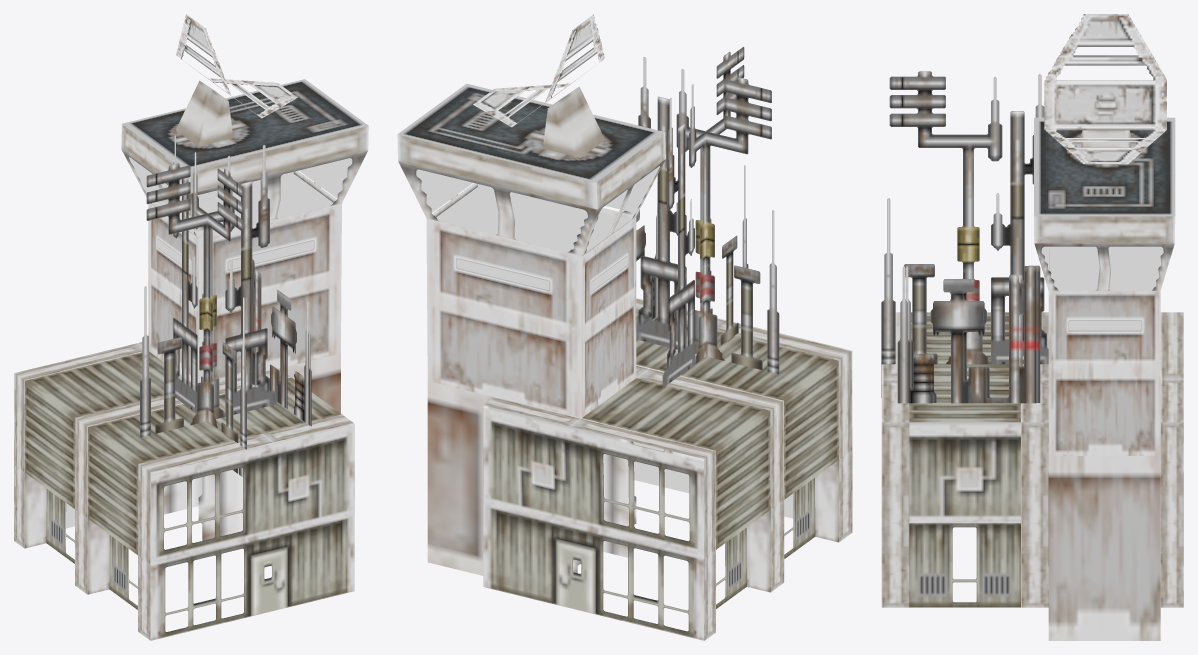
File: s_sensorcontrol.glb
3 renders of one model, left to right at view 1: azimuth 30°, elevation 25°; view 2: azimuth 150°, elevation 25°; view 3: azimuth 270°, elevation 25°, orthographic. The views are drawn at different scales.
Visible parts, largest first — view 1: L_SensorControl, L_Dish, LitWin_SensorControl; view 2: L_SensorControl, LitWin_SensorControl, L_Dish; view 3: L_SensorControl, L_Dish, LitWin_SensorControl.
Boxes of the visible parts, box(x1,y1,x2,y2) form: L_SensorControl: box(14, 79, 368, 640); L_Dish: box(176, 14, 297, 146); LitWin_SensorControl: box(66, 157, 352, 528); L_SensorControl: box(397, 47, 852, 640); LitWin_SensorControl: box(416, 166, 793, 518); L_Dish: box(473, 14, 604, 157); L_SensorControl: box(881, 71, 1183, 640); L_Dish: box(1044, 14, 1166, 164); LitWin_SensorControl: box(1041, 246, 1163, 330).
Size of the model in its own units: 15.77 by 26.74 by 13.01.
Materials: 2 (2 with a texture image).
